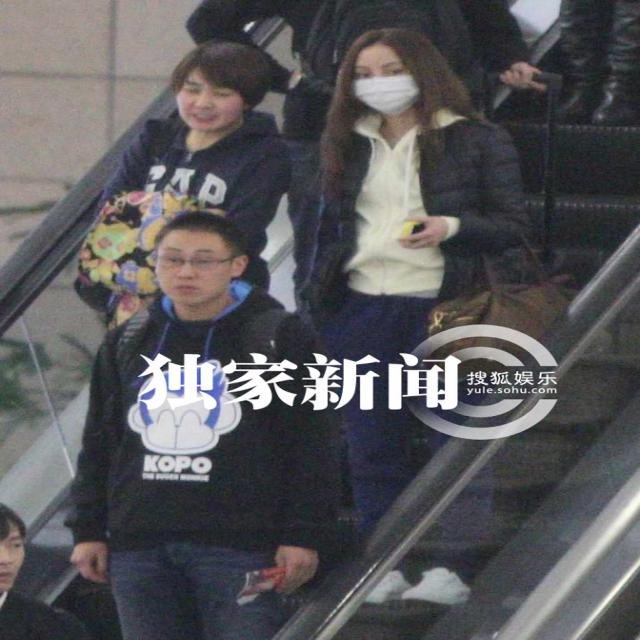mask: (354, 43, 412, 114)
nomask: (158, 230, 229, 307), (178, 60, 240, 131), (1, 528, 28, 596)
